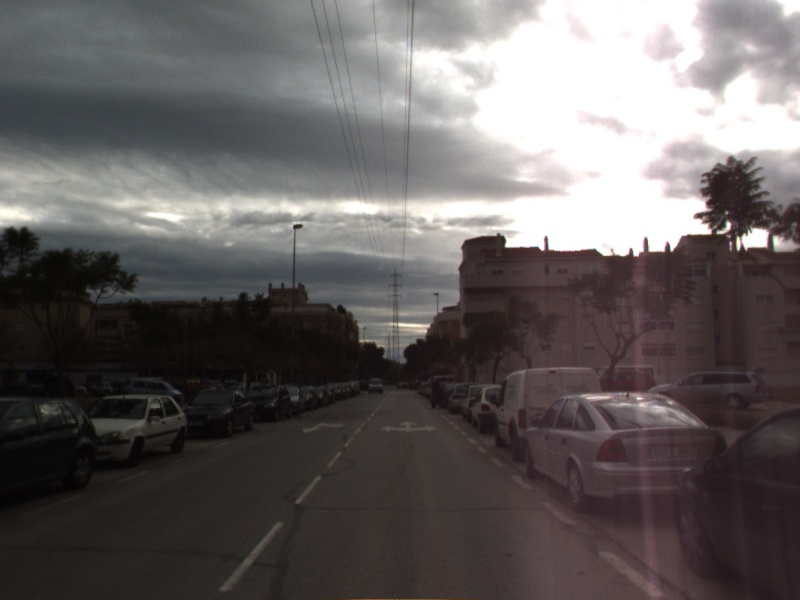STRAIGHT_LEFT_RIGHT: (379, 419, 439, 435)
